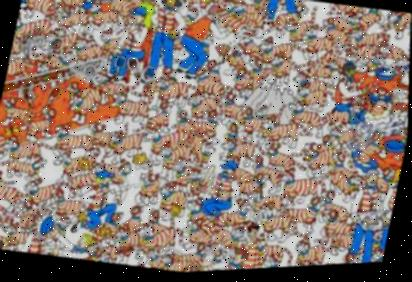waldo: (242, 222, 262, 246)
